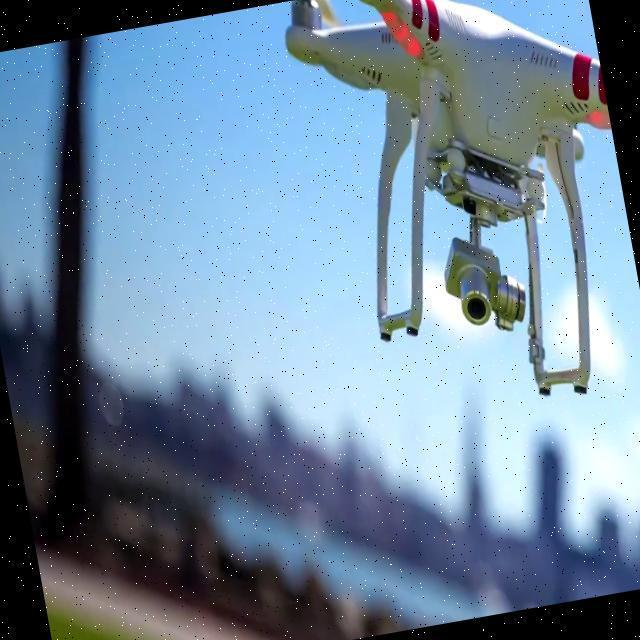Drons: (268, 0, 640, 437)
